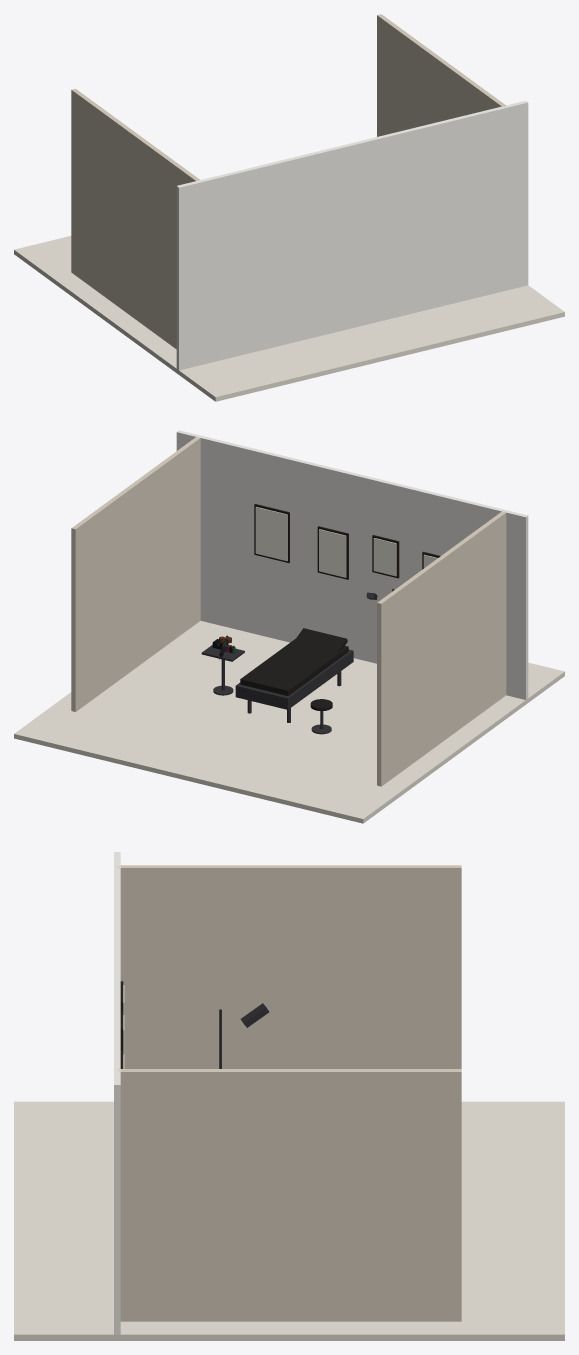
Rendered from tattoo_studio.obj.
The picture shows the model from 3 angles, top to bottom: view 1: azimuth 30°, elevation 25°; view 2: azimuth 150°, elevation 25°; view 3: azimuth 270°, elevation 25°; orthographic projection. The views are drawn at different scales.
Visible parts, largest first — view 1: BackWall, LeftWall, Floor, RightWall; view 2: Floor, BackWall, LeftWall, RightWall, BedPad, BedBase, Art_3, Art_2, BedHead, Art_1; view 3: RightWall, LeftWall, Floor, BackWall.
Boxes of the visible parts, bbox=[...] form: BackWall: bbox=[176, 100, 528, 370]; LeftWall: bbox=[71, 88, 199, 349]; Floor: bbox=[14, 236, 564, 401]; RightWall: bbox=[377, 14, 505, 136]; Floor: bbox=[14, 621, 564, 823]; BackWall: bbox=[176, 430, 528, 699]; LeftWall: bbox=[377, 511, 506, 786]; RightWall: bbox=[71, 437, 200, 711]; BedPad: bbox=[240, 639, 348, 695]; BedBase: bbox=[235, 649, 353, 709]; Art_3: bbox=[255, 507, 287, 560]; Art_2: bbox=[319, 529, 346, 577]; BedHead: bbox=[293, 628, 347, 653]; Art_1: bbox=[373, 538, 396, 576]; RightWall: bbox=[117, 1069, 461, 1321]; LeftWall: bbox=[117, 865, 461, 1068]; Floor: bbox=[14, 1101, 564, 1340]; BackWall: bbox=[114, 852, 120, 1334].
Size of the model in its own units: 8 by 4.1 by 8.
